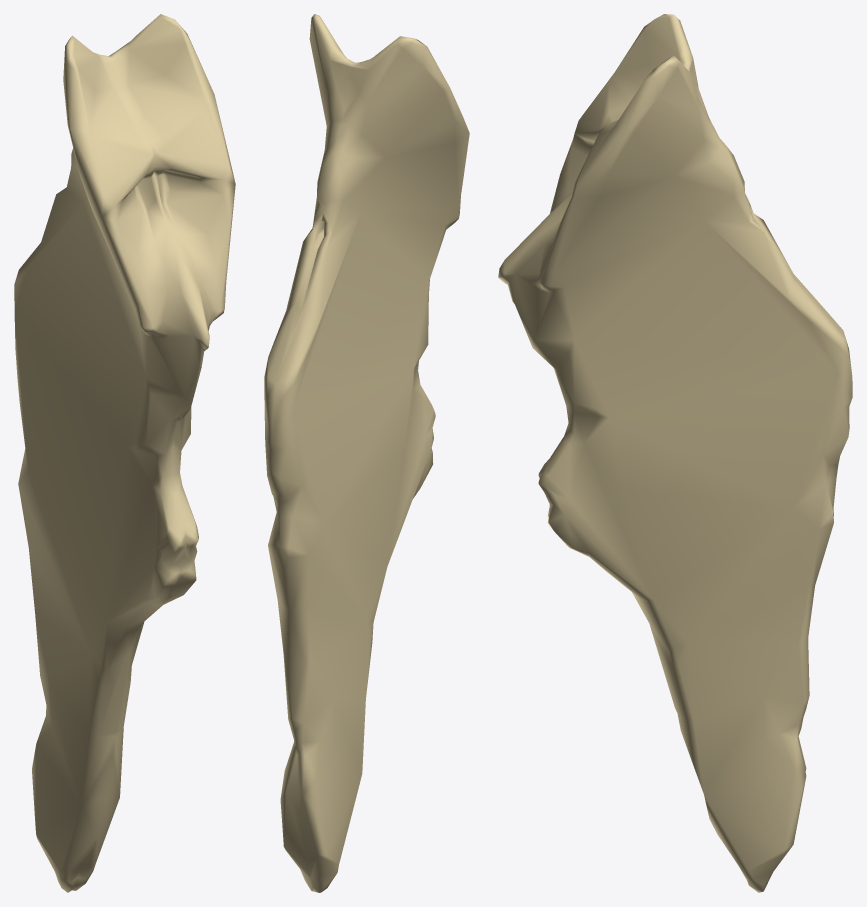
The picture shows the model from 3 angles, left to right: view 1: azimuth 30°, elevation 25°; view 2: azimuth 150°, elevation 25°; view 3: azimuth 270°, elevation 25°; orthographic projection. The views are drawn at different scales.
Visible parts, largest first — view 1: 犁骨; view 2: 犁骨; view 3: 犁骨.
Part boxes in pixels (box(x1,y1,x2,y2)): 犁骨: box(14, 14, 235, 892); 犁骨: box(264, 14, 469, 892); 犁骨: box(498, 14, 852, 892).
Size of the model in its own units: 0.0151 by 0.0901 by 0.0338.
